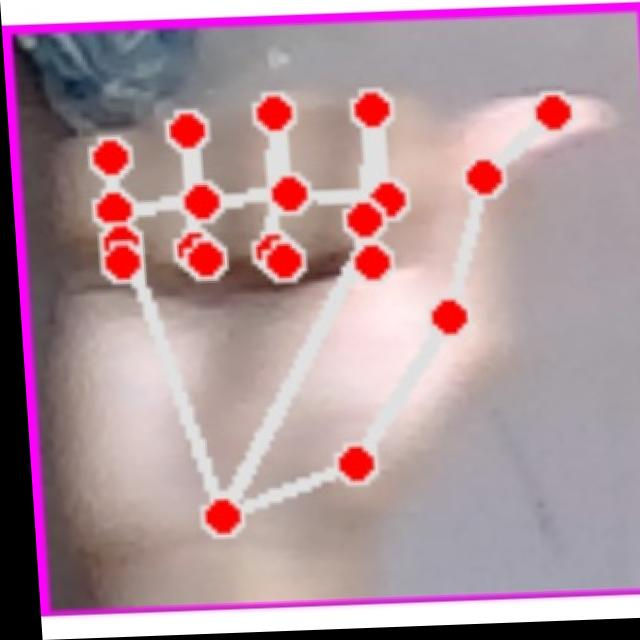A: (30, 58, 640, 581)
